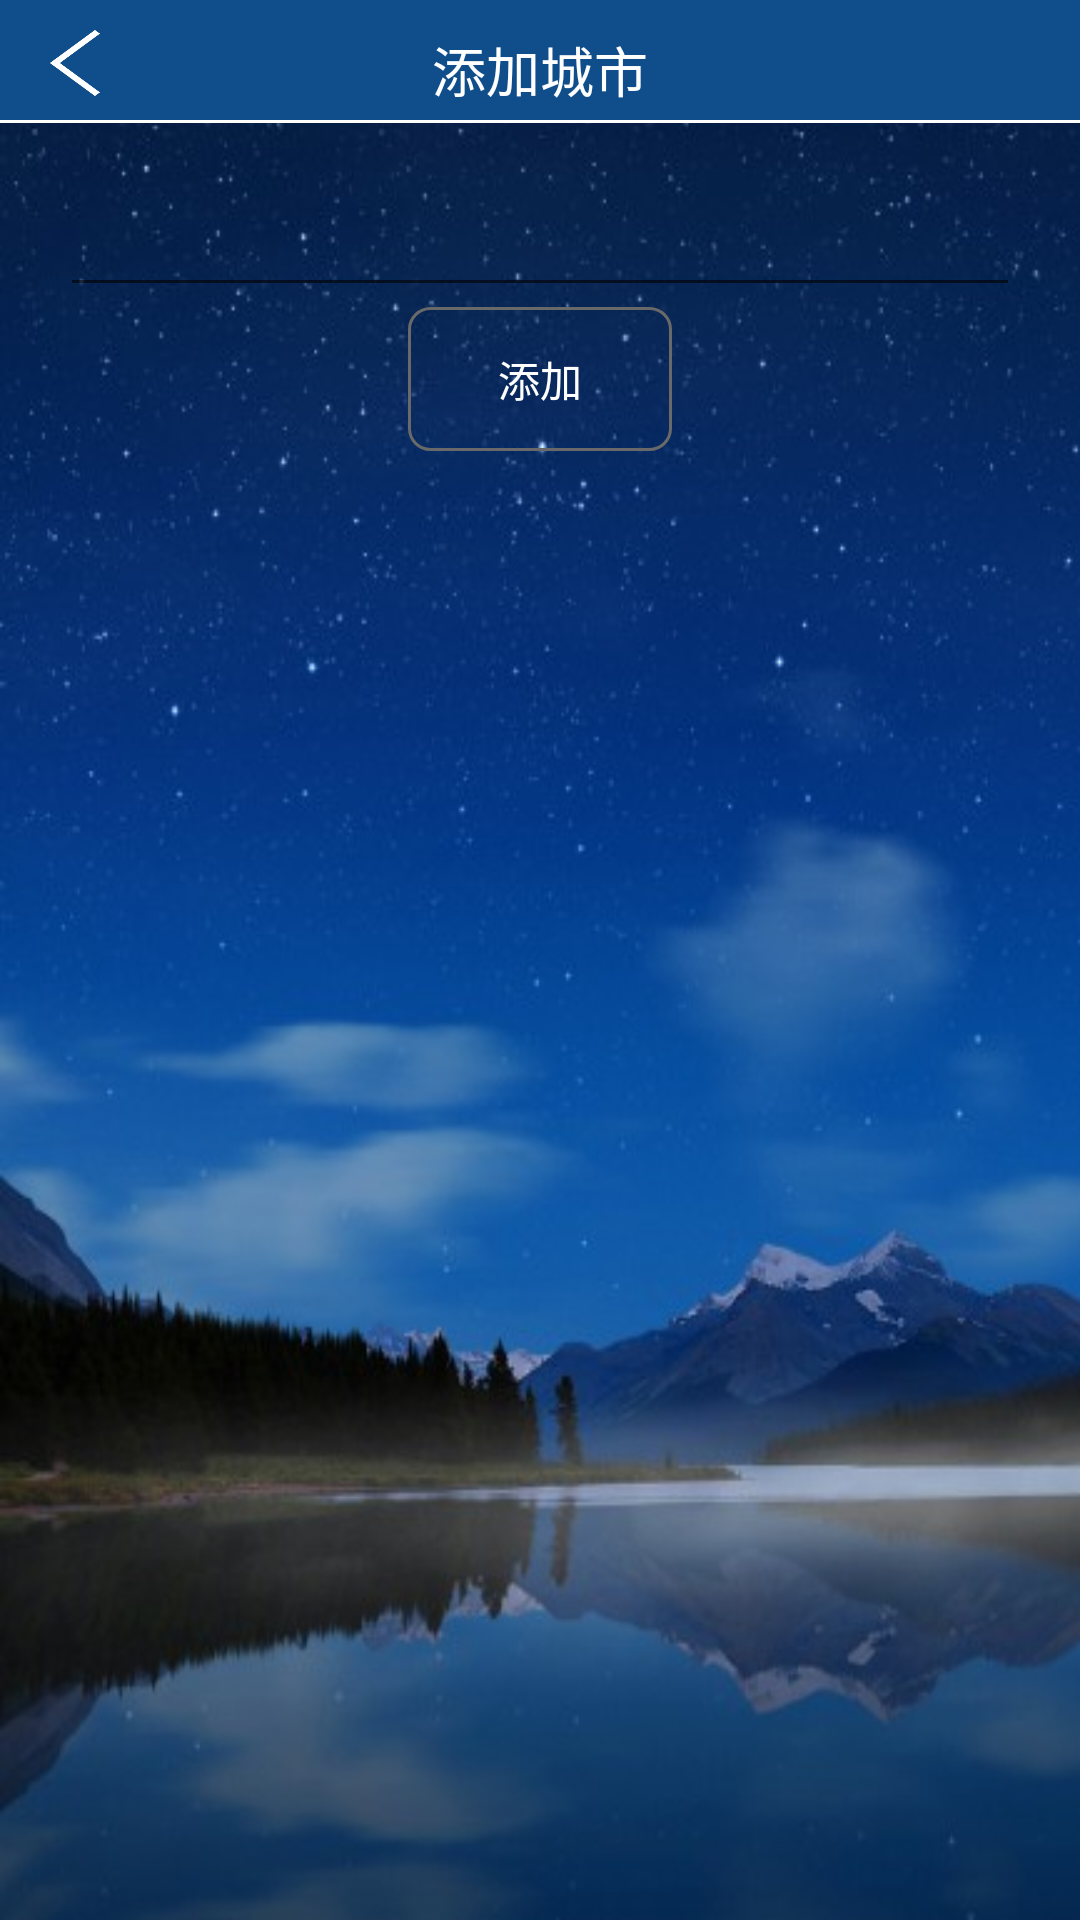

Named icons in this screenshot (1080 × 1920) and their centers, [x,y]:
back: [75,63]
